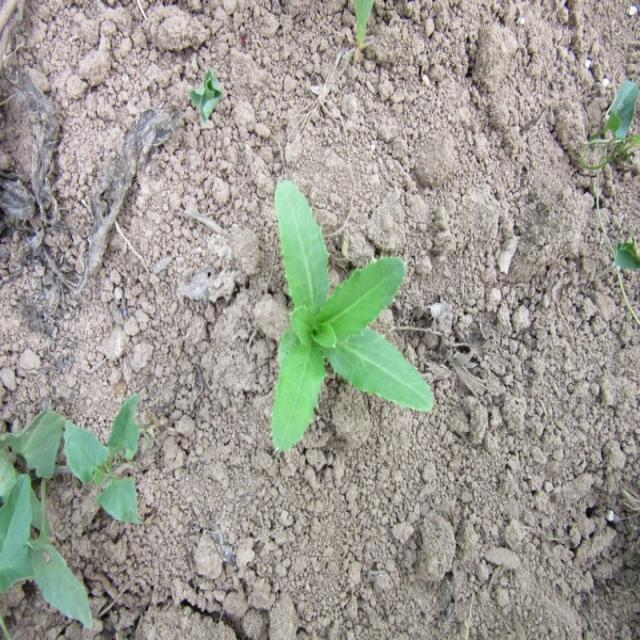cs: (266, 171, 436, 461)
